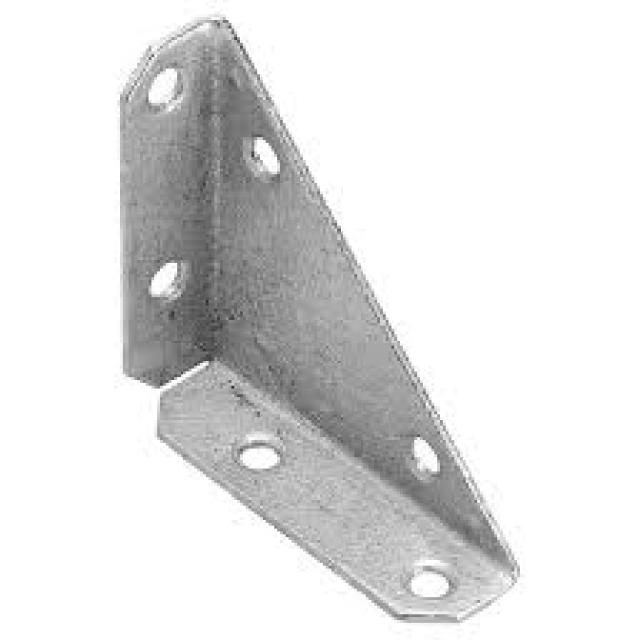holes: (398, 559, 460, 601), (406, 429, 449, 478), (243, 131, 280, 180), (146, 257, 186, 300), (146, 66, 183, 109), (234, 440, 280, 471)
